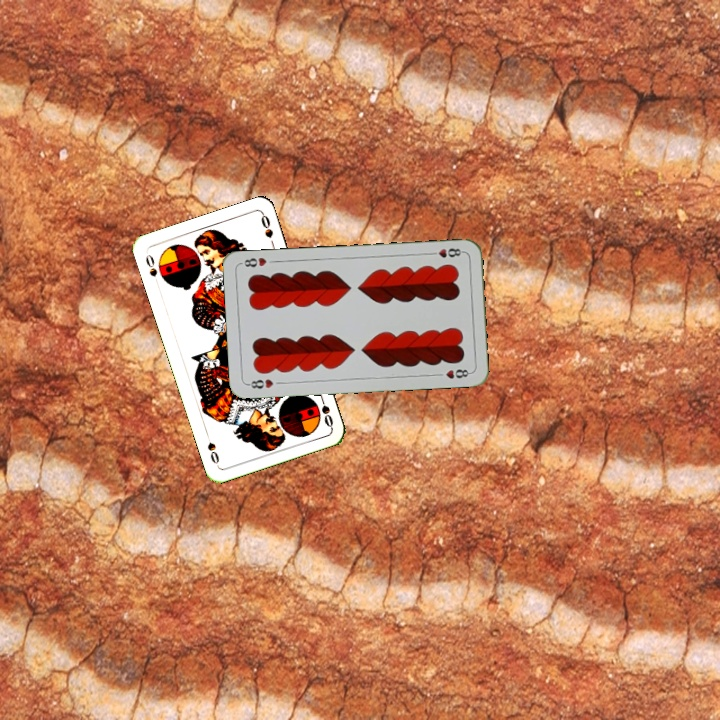H8: (426, 244, 466, 260), (244, 375, 276, 391)
SO: (315, 390, 336, 430), (141, 250, 161, 288)
